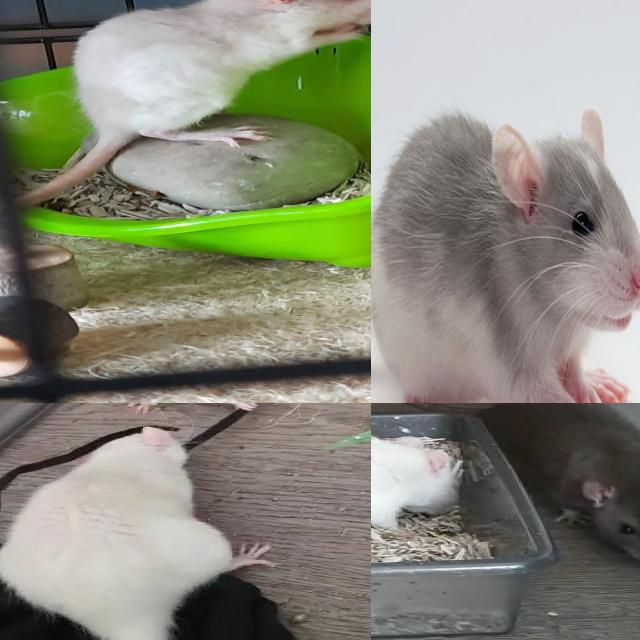rat: (371, 107, 640, 403), (0, 426, 274, 640), (75, 0, 371, 149), (481, 403, 640, 572), (371, 405, 465, 542)
